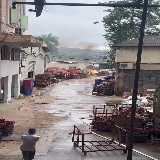fire: (90, 69, 99, 73)
